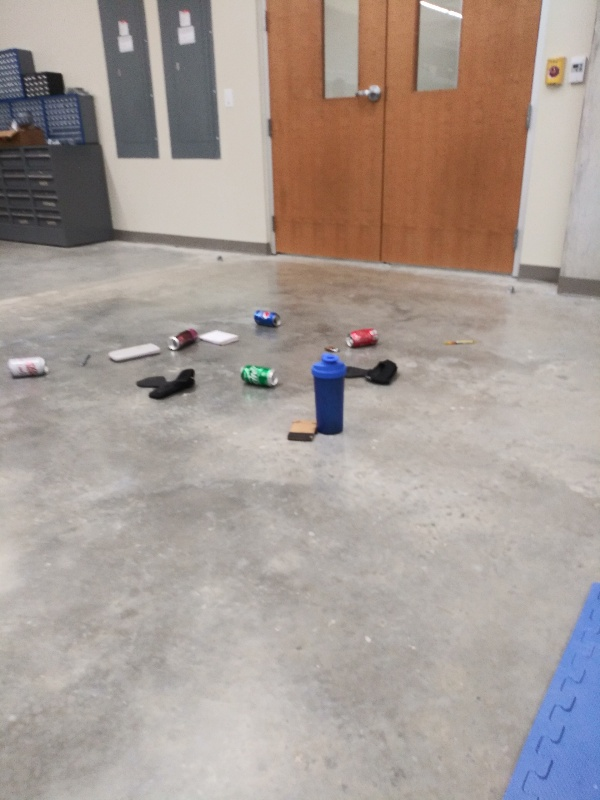can: (3, 352, 49, 380), (238, 362, 283, 387), (166, 325, 201, 354), (344, 325, 382, 351), (249, 307, 285, 330)
